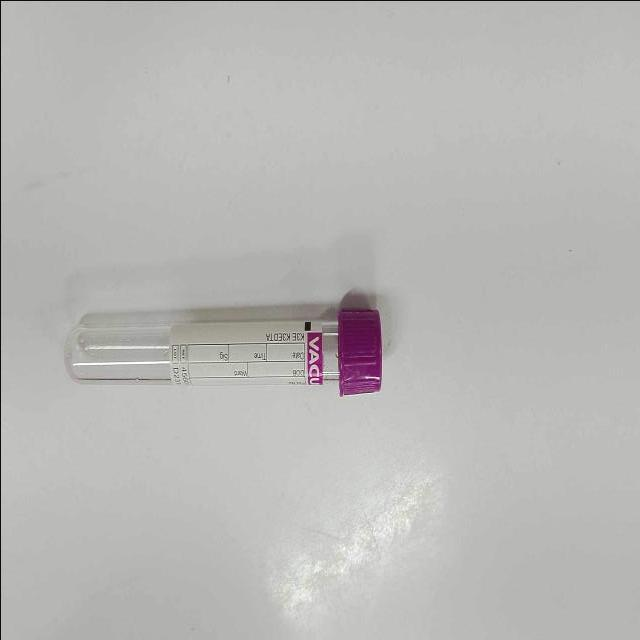Sharps: (64, 306, 383, 397)
